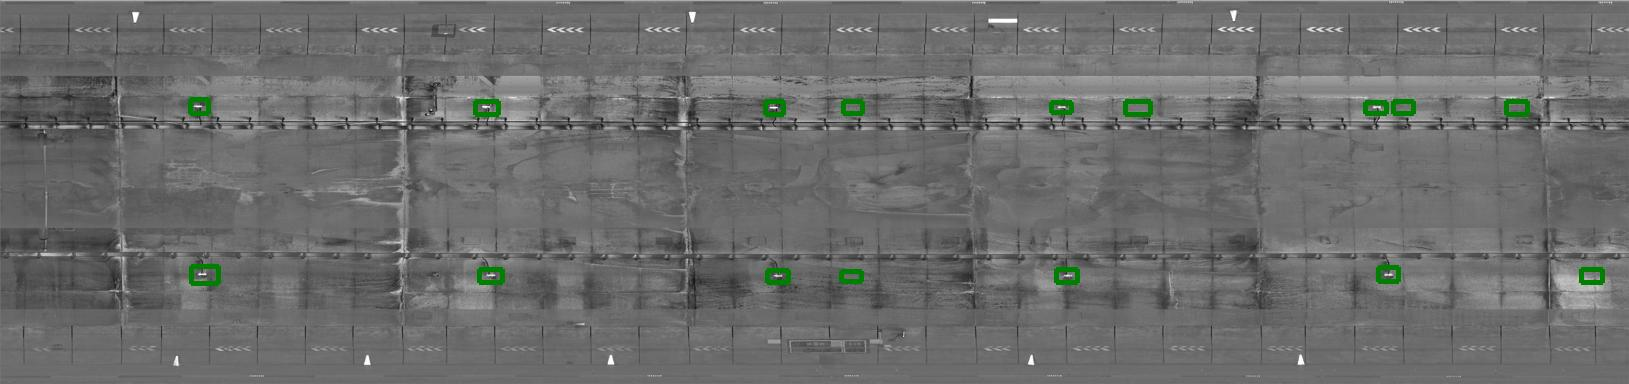light: (191, 267, 218, 284), (475, 102, 499, 114), (1379, 268, 1398, 282), (479, 270, 502, 282), (1057, 270, 1077, 282), (190, 100, 209, 113), (767, 271, 789, 282), (766, 102, 784, 114), (1366, 103, 1387, 113), (1051, 102, 1071, 112)
